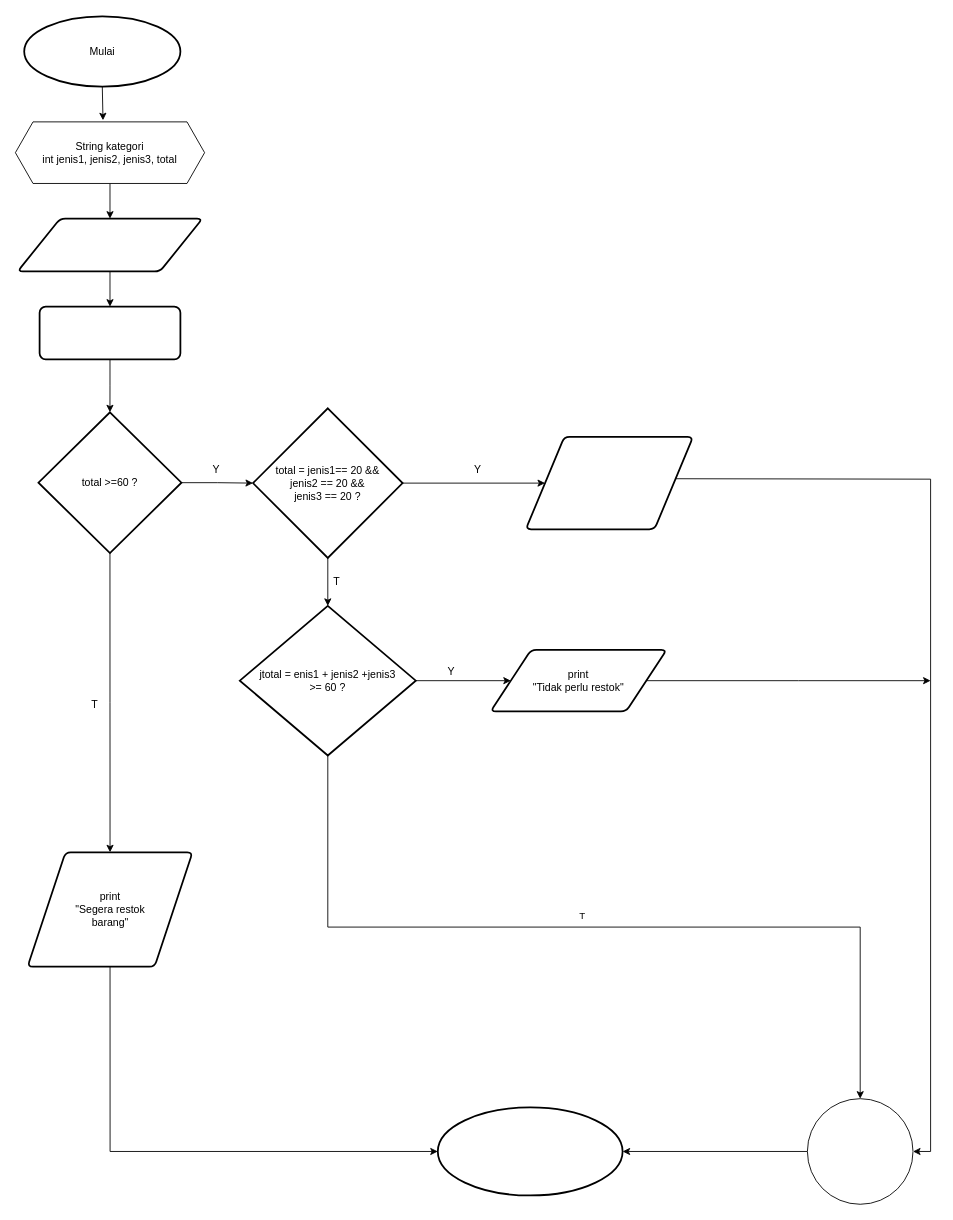
This 953x1220 diagram has some shape labels left out. Each missing label, with the box of its shape:
kategori, jenis1, jenis2, jenis3: (16, 217, 203, 272)
print "Stok barang aman": (524, 436, 693, 530)
Selesai: (436, 1106, 623, 1196)
total = jenis1 + jenis 2 + jenis3: (38, 305, 181, 360)
